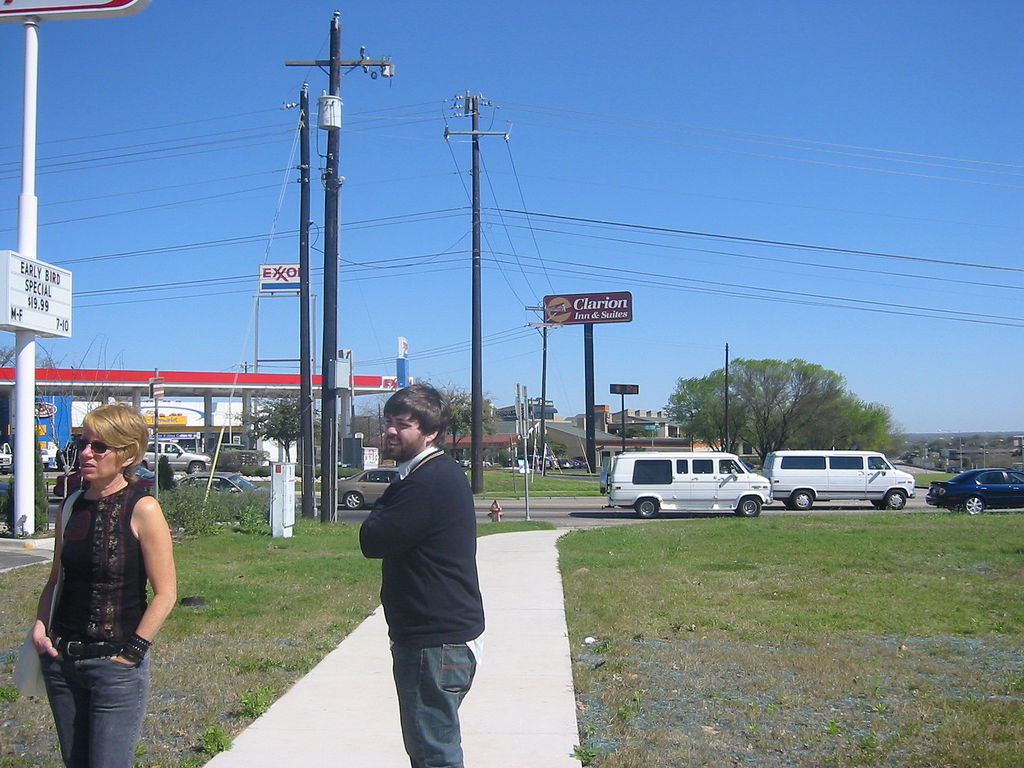head: (376, 379, 448, 471)
